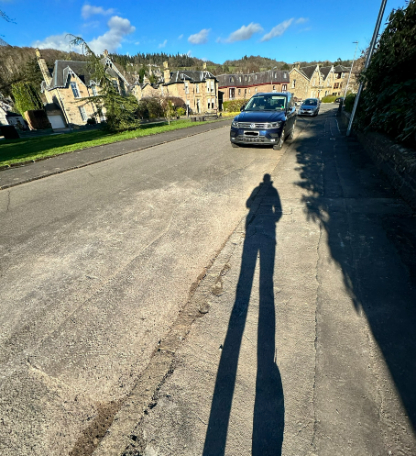car: (230, 85, 292, 153), (298, 90, 322, 118)
tree: (67, 32, 137, 126)
